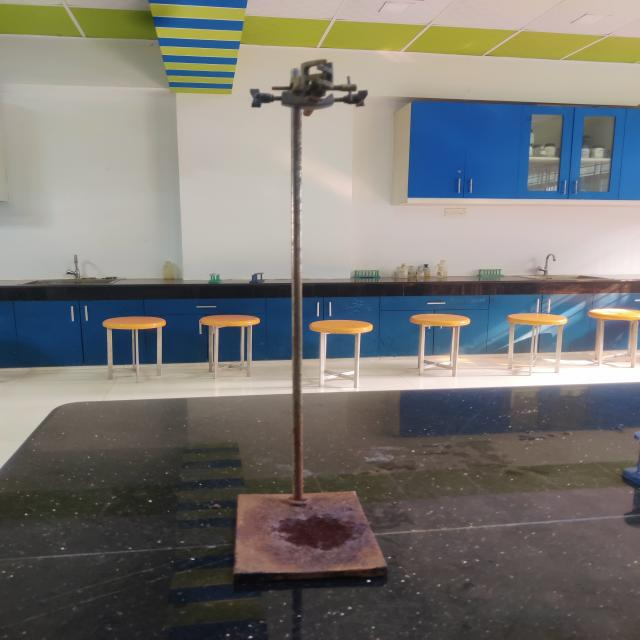Burette_Stands: (196, 37, 424, 610)
